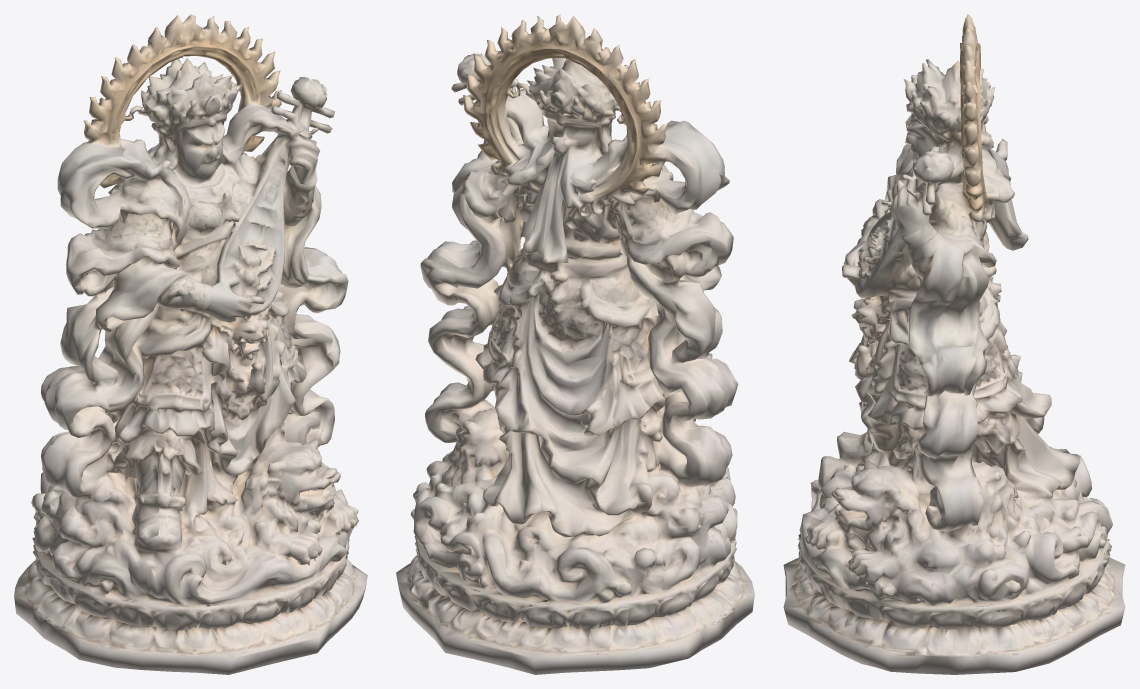
The picture shows the model from 3 angles, left to right: view 1: azimuth 30°, elevation 25°; view 2: azimuth 150°, elevation 25°; view 3: azimuth 270°, elevation 25°; orthographic projection.
Visible parts, largest first — view 1: four-heavenly-kings-01; view 2: four-heavenly-kings-01; view 3: four-heavenly-kings-01.
Part boxes in pixels (box(x1,y1,x2,y2)): four-heavenly-kings-01: box(14, 14, 367, 674); four-heavenly-kings-01: box(396, 14, 754, 674); four-heavenly-kings-01: box(783, 14, 1125, 674).
Size of the model in its own units: 0.5272 by 0.9997 by 0.5314.
Materials: 1 (1 with a texture image).
